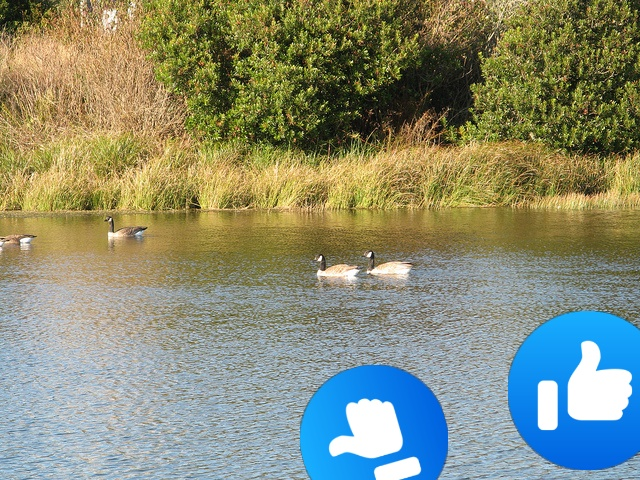like: (508, 311, 640, 470), (300, 365, 448, 480)
